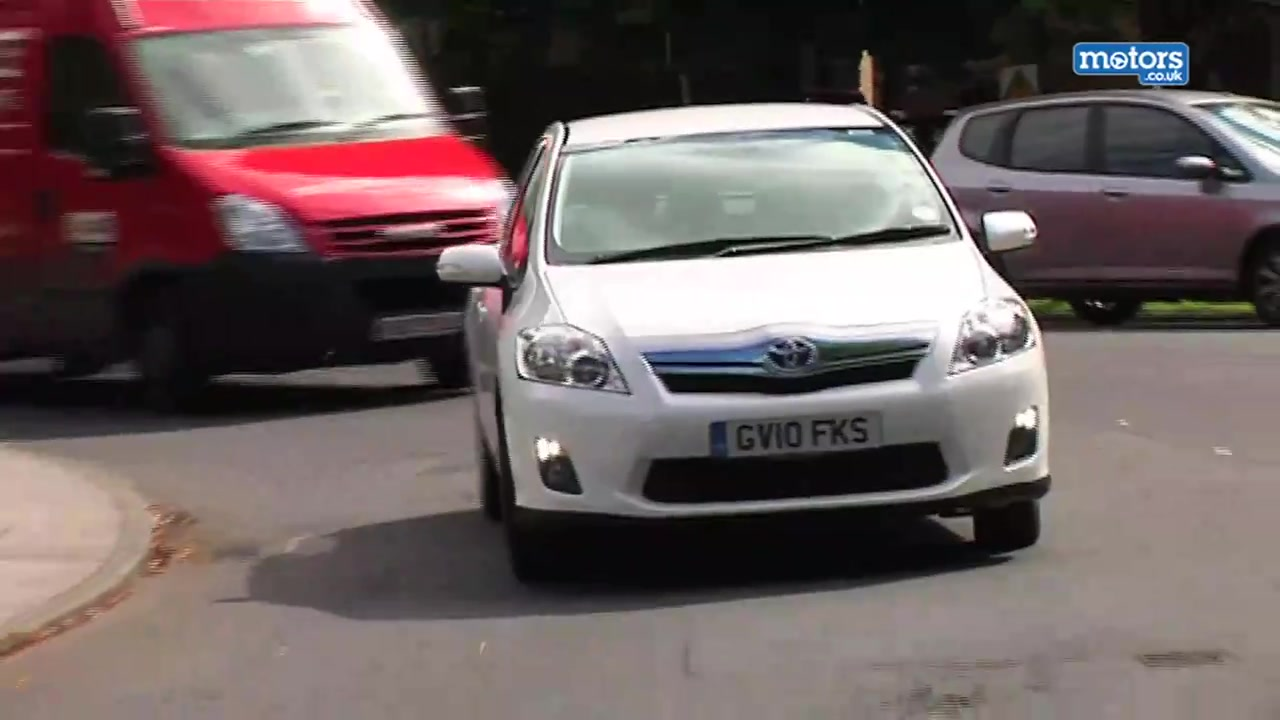car: (436, 100, 1052, 581), (1, 1, 528, 404), (937, 82, 1280, 324)
